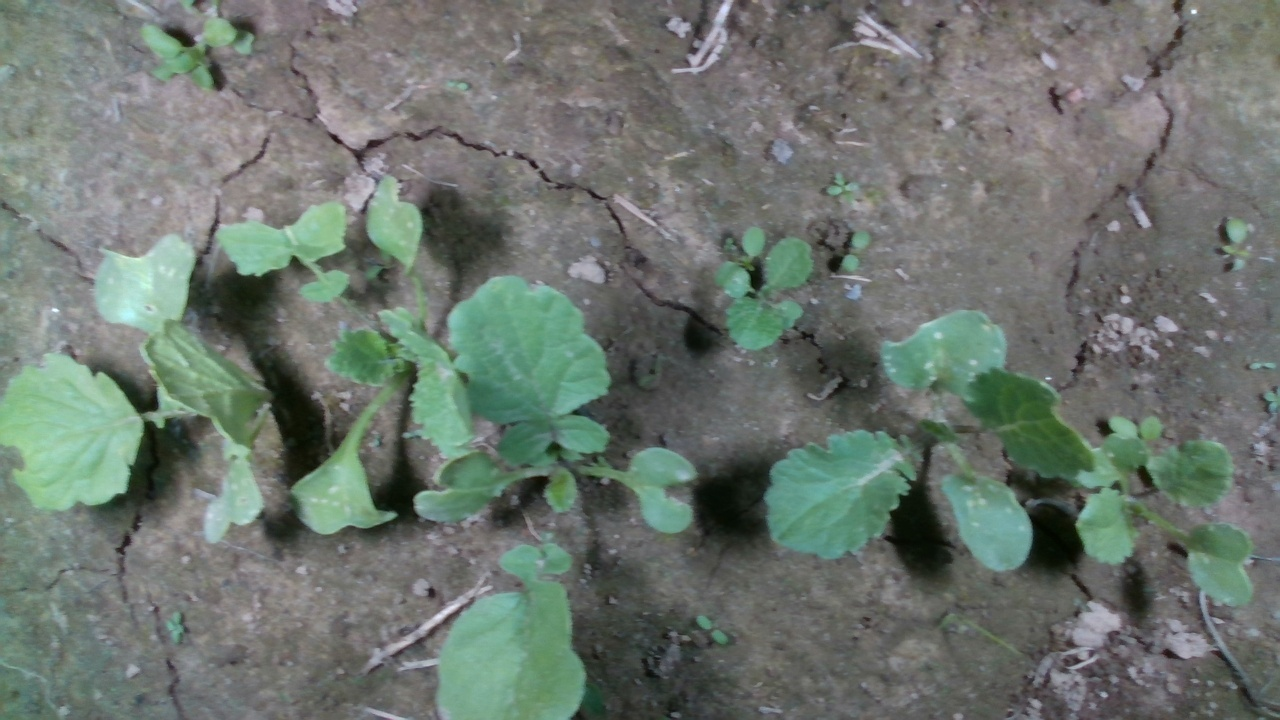weed: (1223, 214, 1258, 275), (843, 227, 870, 273), (826, 170, 865, 199)
